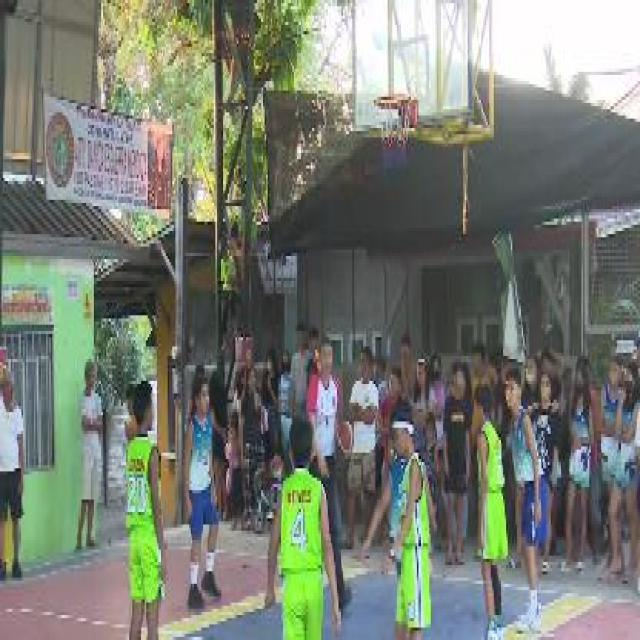Ball: (331, 415, 358, 471)
